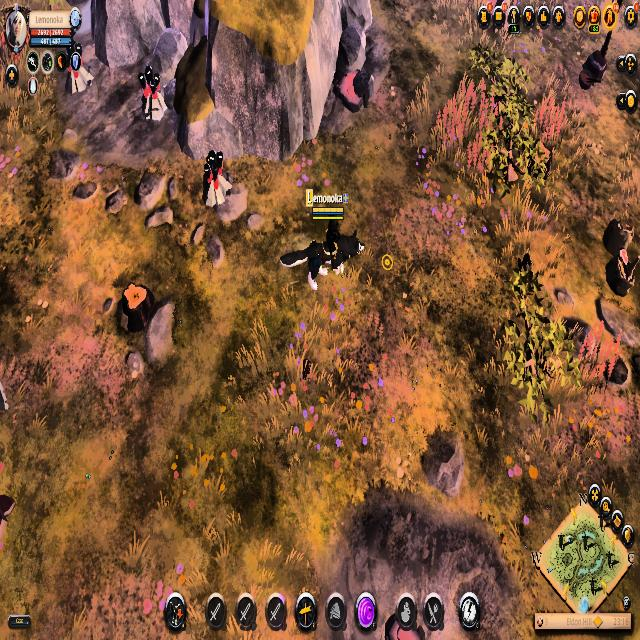ore tier 5: (200, 146, 234, 208), (138, 63, 168, 122)
